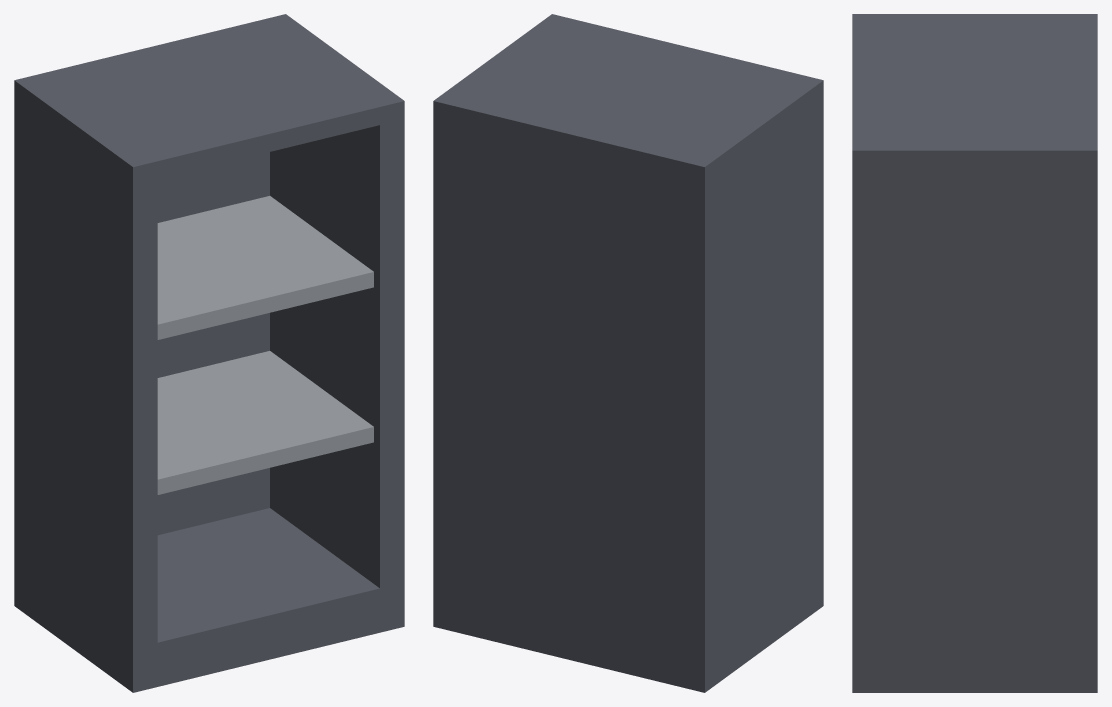
File: Shelves_3C.fbx
The picture shows the model from 3 angles, left to right: view 1: azimuth 30°, elevation 25°; view 2: azimuth 150°, elevation 25°; view 3: azimuth 270°, elevation 25°; orthographic projection. The views are drawn at different scales.
Parts seen in each view (by area): view 1: polySurface1686; view 2: polySurface1686; view 3: polySurface1686.
Boxes of the visible parts, x1=… form: polySurface1686: x1=14, y1=14, x2=404, y2=692; polySurface1686: x1=433, y1=14, x2=823, y2=692; polySurface1686: x1=852, y1=14, x2=1097, y2=692.
Size of the model in its own units: 1.1 by 2.03 by 0.8338.
Materials: 1 (1 with a texture image).
